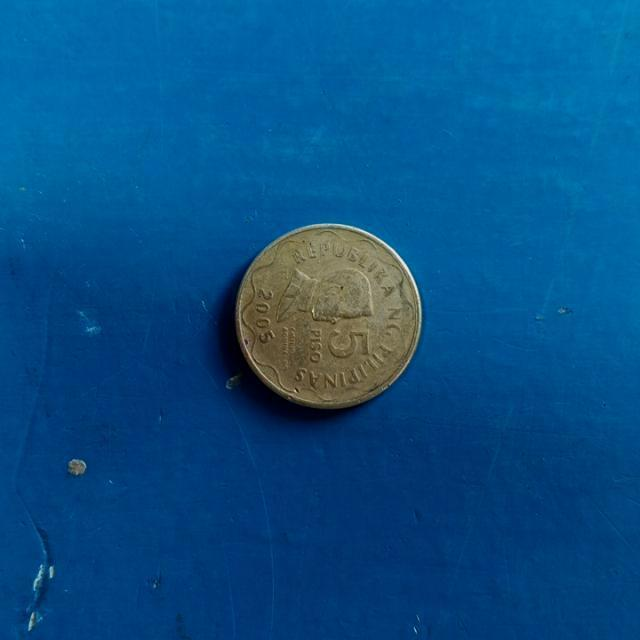5 peso-old: (233, 214, 432, 424)
